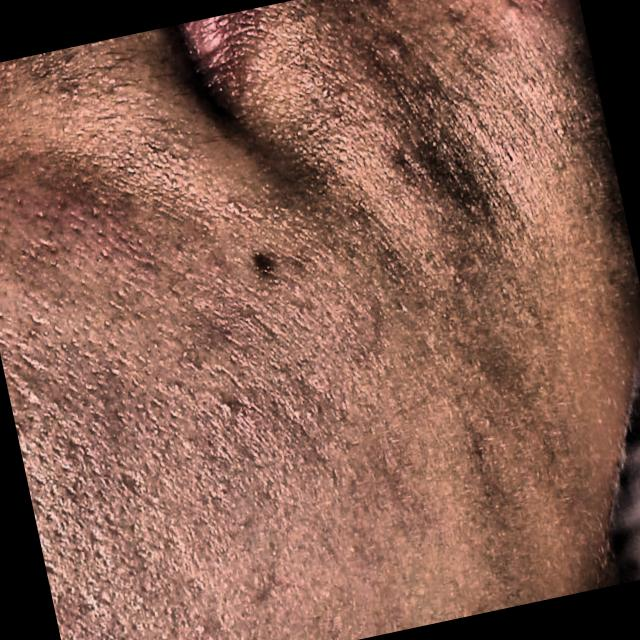whiteheads: (380, 34, 412, 65), (217, 193, 246, 222), (216, 389, 239, 416), (192, 614, 216, 638), (301, 406, 323, 424), (334, 85, 354, 104), (348, 209, 366, 230)
